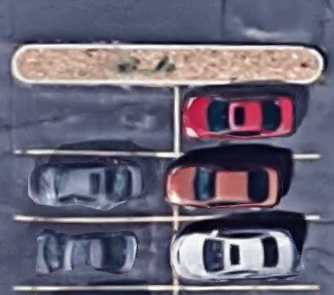Occupied: (13, 219, 176, 288), (13, 152, 176, 219), (176, 83, 320, 156), (176, 219, 319, 289), (176, 154, 319, 218)
Vacant: (13, 83, 176, 154)
